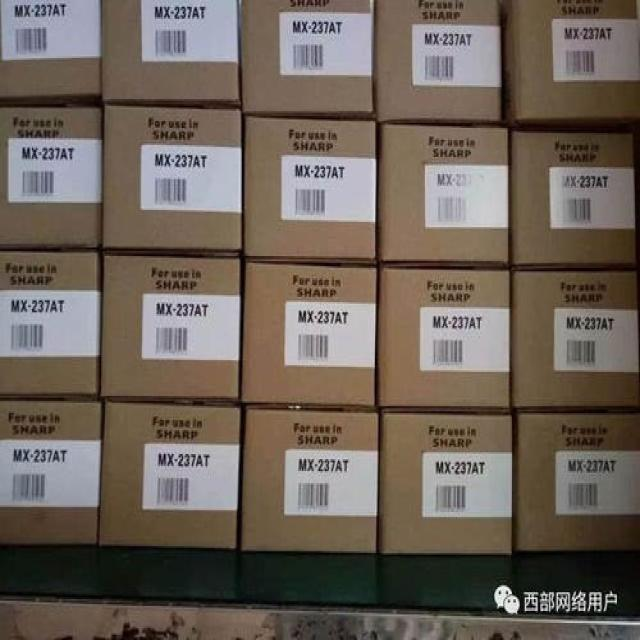box: (101, 106, 242, 251), (100, 403, 238, 550), (101, 251, 238, 399), (242, 406, 378, 555), (241, 259, 376, 406), (244, 114, 376, 259), (378, 265, 511, 408), (380, 410, 512, 553), (512, 268, 639, 410), (516, 411, 640, 553), (380, 125, 508, 261), (509, 131, 637, 265), (503, 2, 636, 125), (241, 0, 375, 114), (374, 0, 502, 119), (1, 251, 102, 394), (1, 108, 101, 251), (101, 0, 241, 101), (3, 399, 101, 543), (0, 0, 101, 94)
